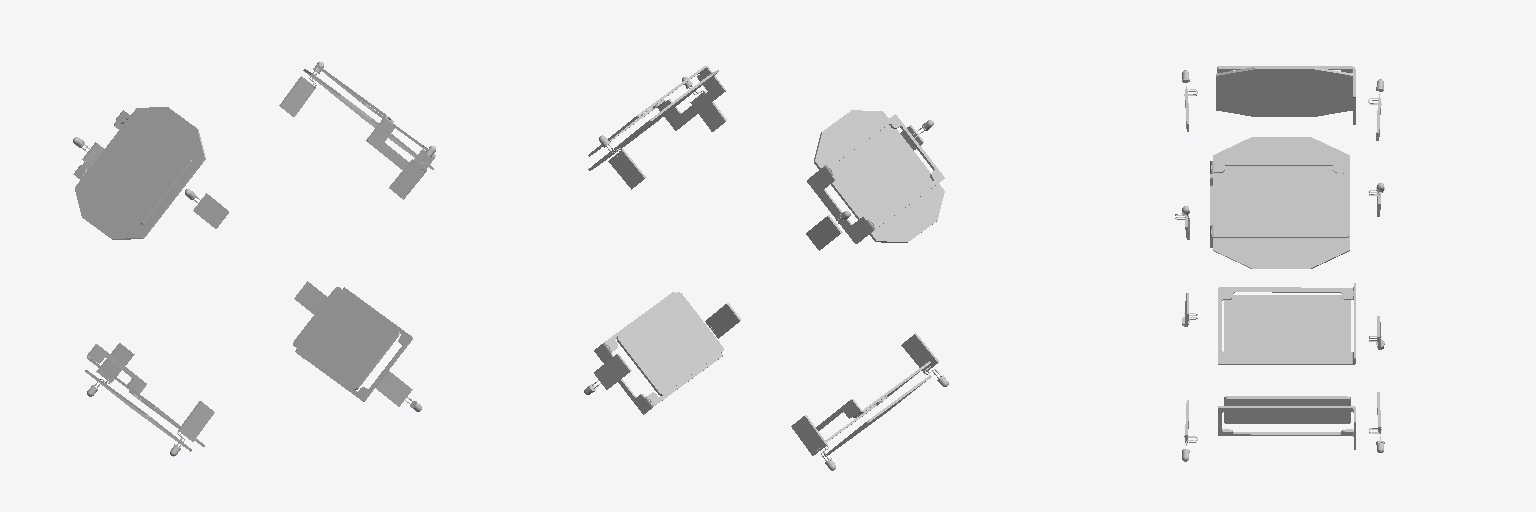
File: Electronics_250213.obj
3 views of the same model, side by side, from view 1: azimuth 30°, elevation 25°; view 2: azimuth 150°, elevation 25°; view 3: azimuth 270°, elevation 25° (orthographic).
Parts seen in each view (by area): view 1: Volumenkörper1:2, Volumenkörper1:8, Volumenkörper1:14, Volumenkörper1:1, Volumenkörper1:3, Volumenkörper1:7, Volumenkörper1:10, Volumenkörper1:12, Volumenkörper1:9, Volumenkörper1:13, Volumenkörper1:11, Volumenkörper1:15 (+2 smaller); view 2: Volumenkörper1:2, Volumenkörper1:8, Volumenkörper1:1, Volumenkörper1:14, Volumenkörper1:7, Volumenkörper1:3, Volumenkörper1:15, Volumenkörper1:5, Volumenkörper1:9, Volumenkörper1:6, Volumenkörper1:10, Volumenkörper1 (+1 smaller); view 3: Volumenkörper1:15, Volumenkörper1:4, Volumenkörper1:2, Volumenkörper1:8, Volumenkörper1:14, Volumenkörper1:3, Volumenkörper1:7, Volumenkörper1:1.
Part boxes in pixels (left/top/right/bottom): Volumenkörper1:2: left=75, top=107, right=205, bottom=239; Volumenkörper1:8: left=293, top=287, right=399, bottom=389; Volumenkörper1:14: left=317, top=65, right=435, bottom=169; Volumenkörper1:1: left=73, top=110, right=191, bottom=224; Volumenkörper1:3: left=87, top=344, right=204, bottom=446; Volumenkörper1:7: left=295, top=287, right=412, bottom=401; Volumenkörper1:10: left=178, top=401, right=214, bottom=441; Volumenkörper1:12: left=374, top=370, right=412, bottom=406; Volumenkörper1:9: left=279, top=76, right=315, bottom=116; Volumenkörper1:13: left=389, top=159, right=426, bottom=199; Volumenkörper1:11: left=193, top=193, right=228, bottom=228; Volumenkörper1:15: left=303, top=69, right=433, bottom=169; Volumenkörper1:2: left=814, top=110, right=944, bottom=242; Volumenkörper1:8: left=616, top=292, right=723, bottom=395; Volumenkörper1:1: left=807, top=114, right=944, bottom=243; Volumenkörper1:14: left=588, top=66, right=725, bottom=156; Volumenkörper1:7: left=594, top=292, right=722, bottom=414; Volumenkörper1:3: left=816, top=361, right=930, bottom=441; Volumenkörper1:15: left=588, top=70, right=718, bottom=170; Volumenkörper1:5: left=791, top=415, right=827, bottom=455; Volumenkörper1:9: left=608, top=149, right=645, bottom=189; Volumenkörper1:6: left=594, top=353, right=631, bottom=389; Volumenkörper1:10: left=901, top=333, right=938, bottom=373; Volumenkörper1: left=806, top=215, right=842, bottom=250; Volumenkörper1:15: left=1213, top=137, right=1349, bottom=268; Volumenkörper1:4: left=1224, top=295, right=1350, bottom=359; Volumenkörper1:2: left=1216, top=67, right=1352, bottom=116; Volumenkörper1:8: left=1224, top=396, right=1350, bottom=423; Volumenkörper1:14: left=1210, top=161, right=1348, bottom=247; Volumenkörper1:3: left=1218, top=283, right=1355, bottom=364; Volumenkörper1:7: left=1218, top=406, right=1355, bottom=449; Volumenkörper1:1: left=1217, top=66, right=1355, bottom=124.
Bounding box in the file's own units: 244 × 228 × 141.